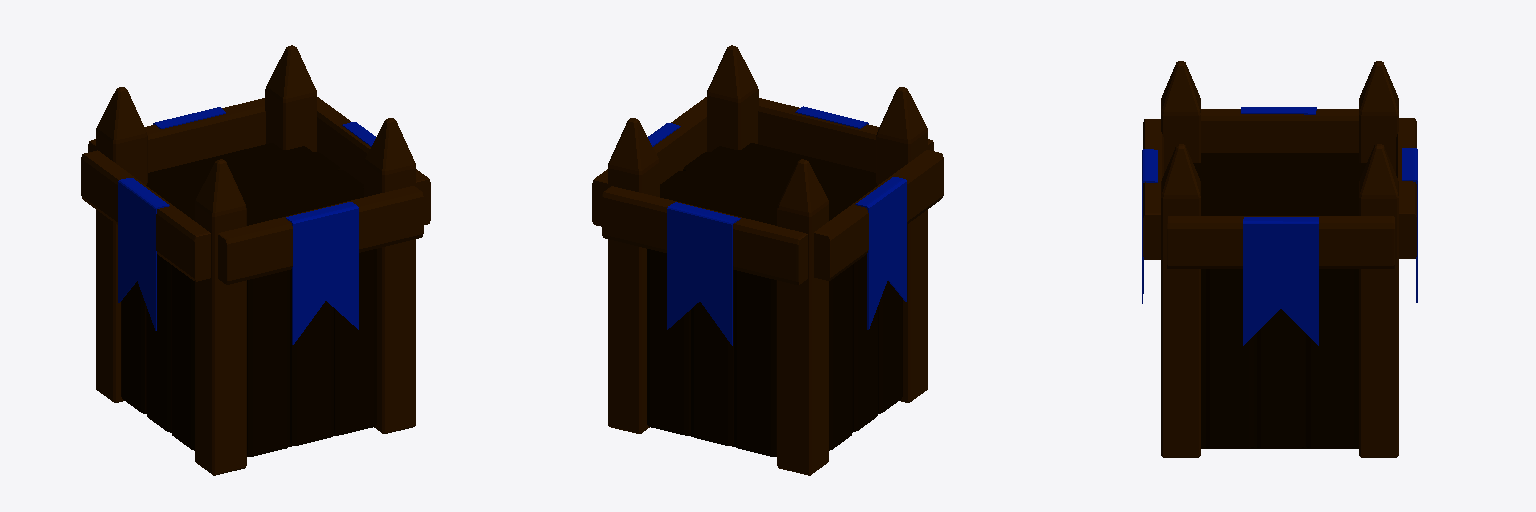
Rendered from ArcherTower_Level1_BlueTeam.obj.
3 renders of one model, left to right at view 1: azimuth 30°, elevation 25°; view 2: azimuth 150°, elevation 25°; view 3: azimuth 270°, elevation 25°, orthographic.
Visible parts, largest first — view 1: ArcherTower_Level1_BlueTeam_Cube.006; view 2: ArcherTower_Level1_BlueTeam_Cube.006; view 3: ArcherTower_Level1_BlueTeam_Cube.006.
Part boxes in pixels (x1,y1,x2,y2): ArcherTower_Level1_BlueTeam_Cube.006: (81,45,430,475); ArcherTower_Level1_BlueTeam_Cube.006: (592,45,943,475); ArcherTower_Level1_BlueTeam_Cube.006: (1142,61,1417,457).
Size of the model in its own units: 13.97 by 17.01 by 13.97.